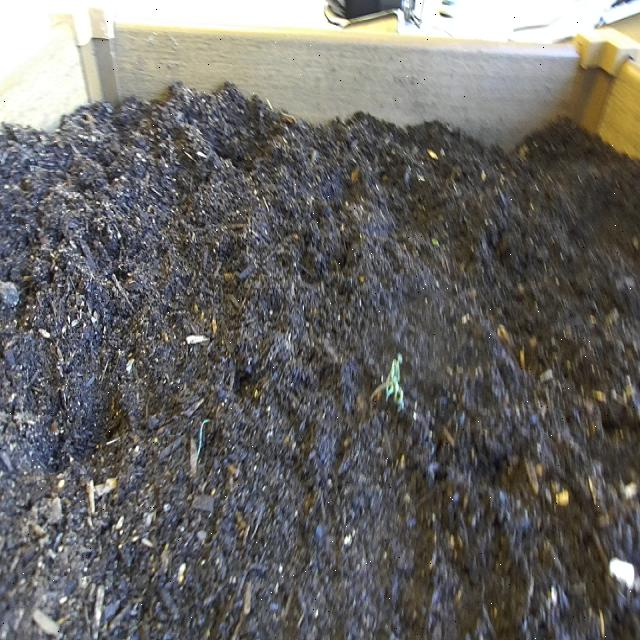Unhealthy: (362, 348, 411, 422)
